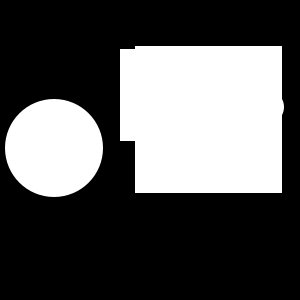circle: (135, 46, 282, 193), (120, 49, 212, 141)
rectangle: (5, 99, 103, 197), (250, 90, 284, 124)
triangle: (151, 52, 274, 175)
